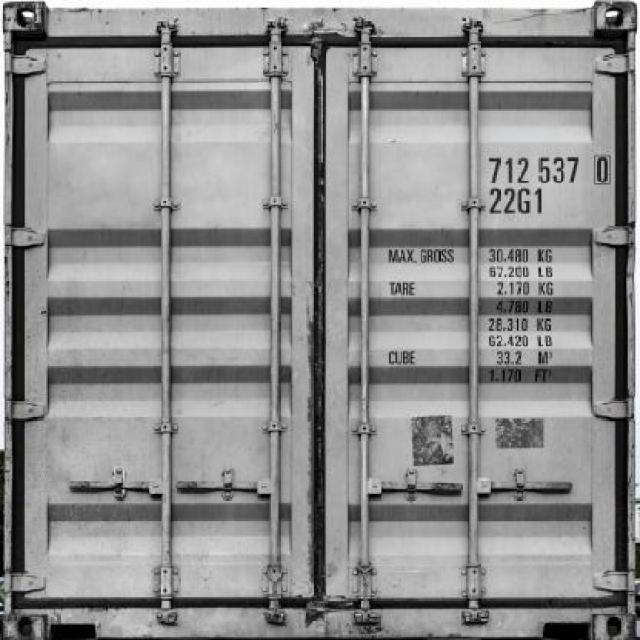ISO: (494, 188, 544, 215)
container_number: (488, 150, 618, 185)
